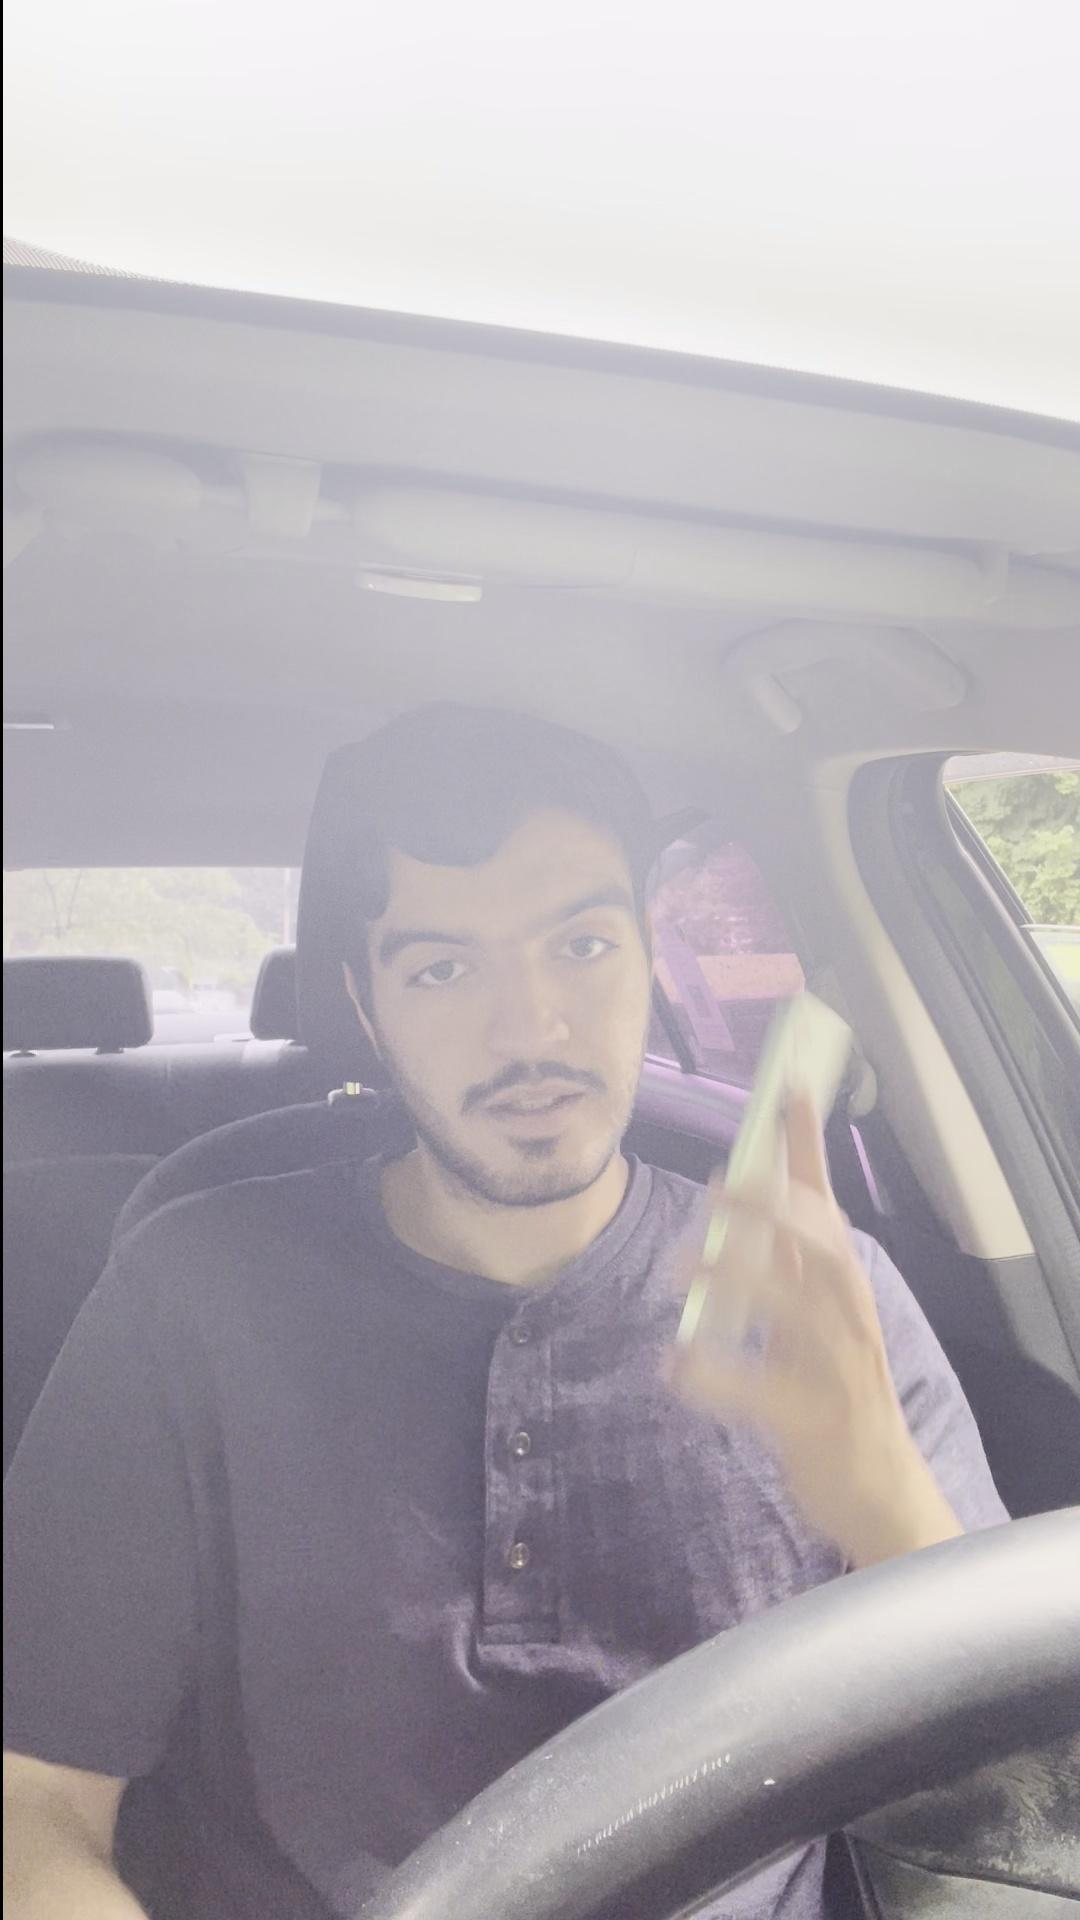mobile: (683, 984, 920, 1403)
no_seatbelt: (450, 1150, 810, 1691)
